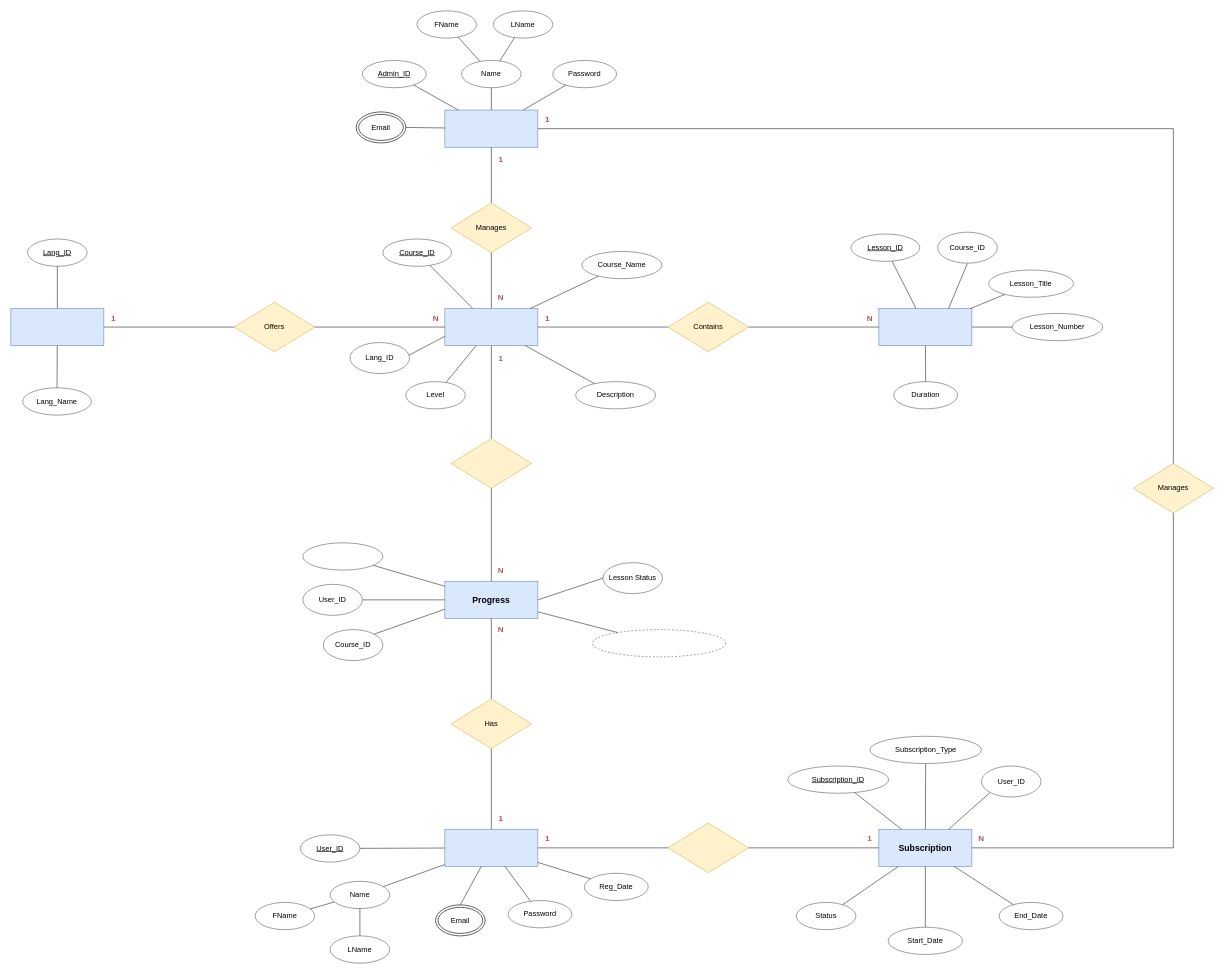
This 1225x974 diagram has some shape labels left out. Here are the shapes that lost their labels. From the top down, the centre of each, then its label:
the point at 491,128: Admin
the point at 57,327: Language
the point at 491,327: Course
the point at 925,327: Lesson
the point at 491,463: Records
the point at 342,556: Progress_ID
the point at 659,643: Completion_Percentage
the point at 491,847: User
the point at 708,847: Purchases
